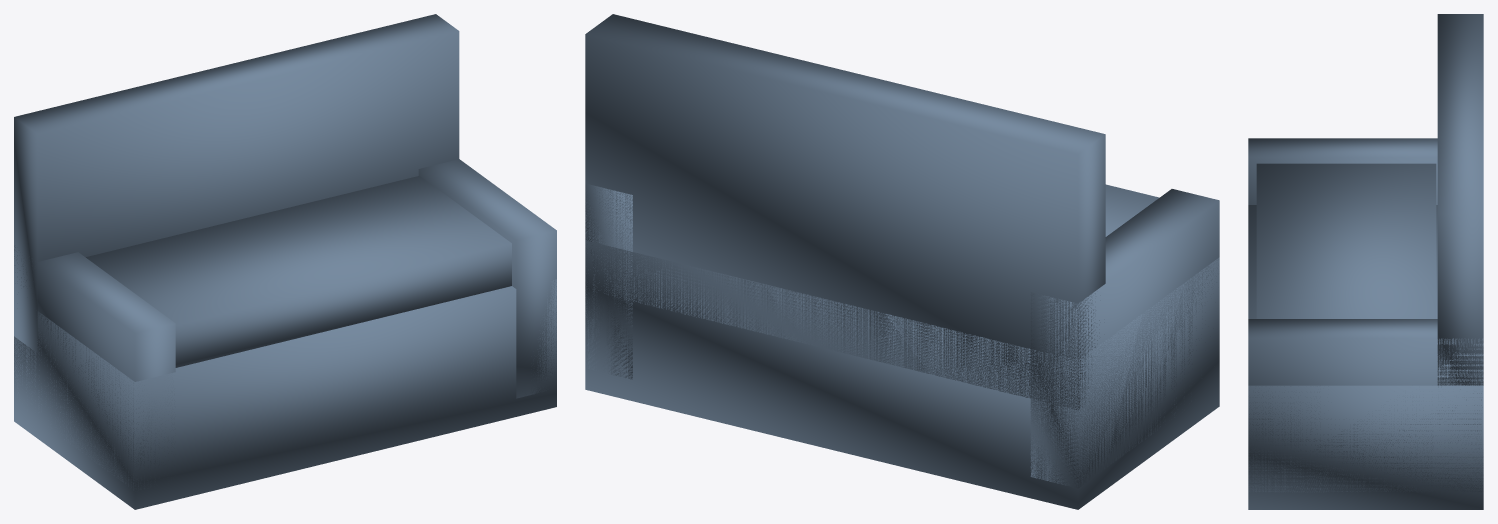
The model's file is loveseat.glb.
3 renders of one model, left to right at view 1: azimuth 30°, elevation 25°; view 2: azimuth 150°, elevation 25°; view 3: azimuth 270°, elevation 25°, orthographic. The views are drawn at different scales.
Visible parts, largest first — view 1: world; view 2: world; view 3: world.
Boxes of the visible parts, x1,y1,x2,y2 form: world: (14,14,556,509); world: (585,14,1219,509); world: (1248,14,1483,509).
Bounding box in the file's own units: 1.45 × 1.03 × 0.72.
